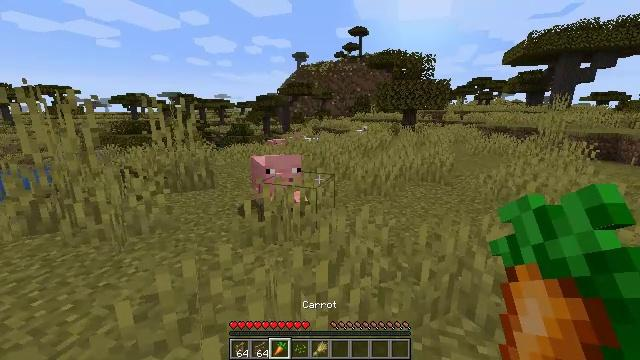pig: (254, 156, 308, 212), (268, 137, 286, 152)
